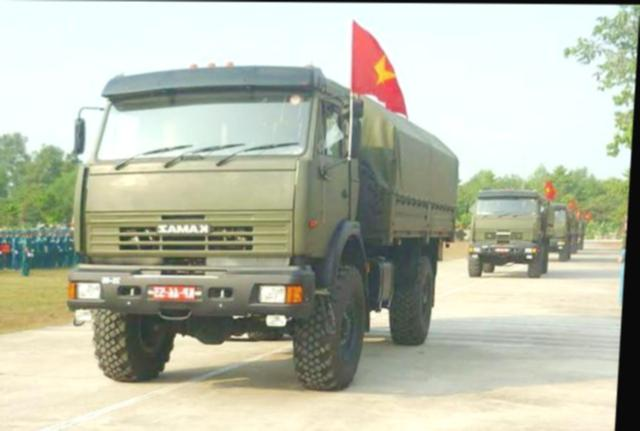License_Plate: (145, 281, 199, 306)
